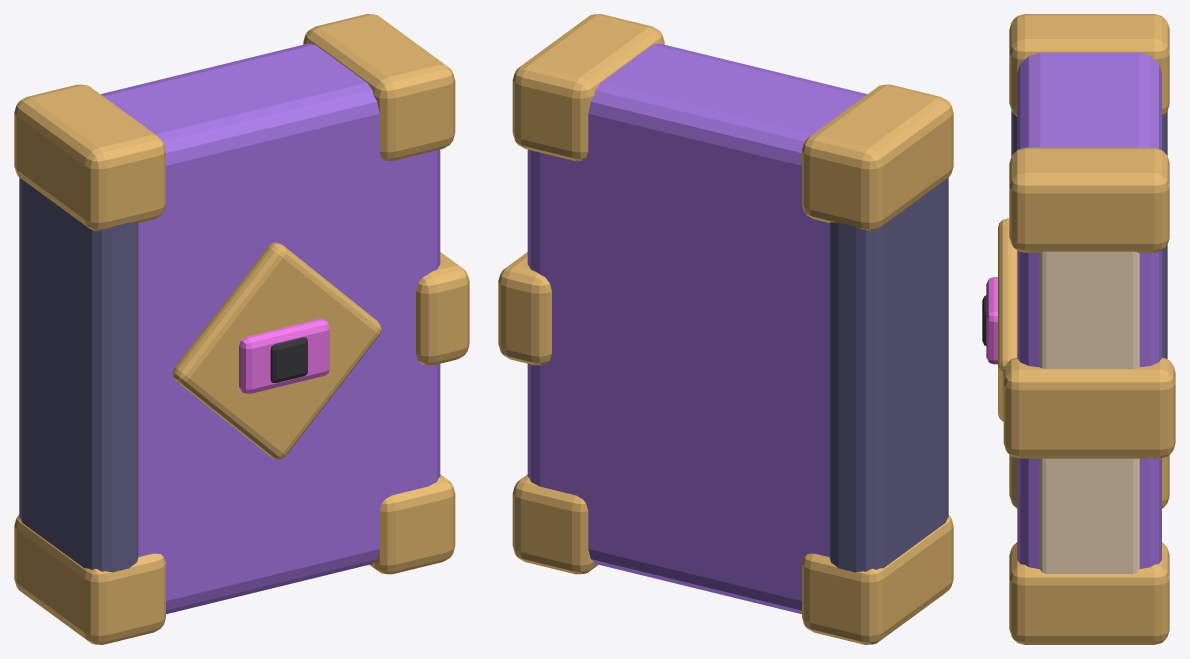
Rendered from weapon-tome.glb.
3 renders of one model, left to right at view 1: azimuth 30°, elevation 25°; view 2: azimuth 150°, elevation 25°; view 3: azimuth 270°, elevation 25°, orthographic. The views are drawn at different scales.
Visible parts, largest first — view 1: weapon-tome, rune; view 2: weapon-tome; view 3: weapon-tome, rune.
Boxes of the visible parts, <box> form: weapon-tome: <box>14,14,469,644</box>; rune: <box>239,319,329,393</box>; weapon-tome: <box>498,14,953,644</box>; weapon-tome: <box>998,14,1175,644</box>; rune: <box>982,277,997,364</box>.
Size of the model in its own units: 0.2155 by 0.269 by 0.1.
1 material, 1 textured.
